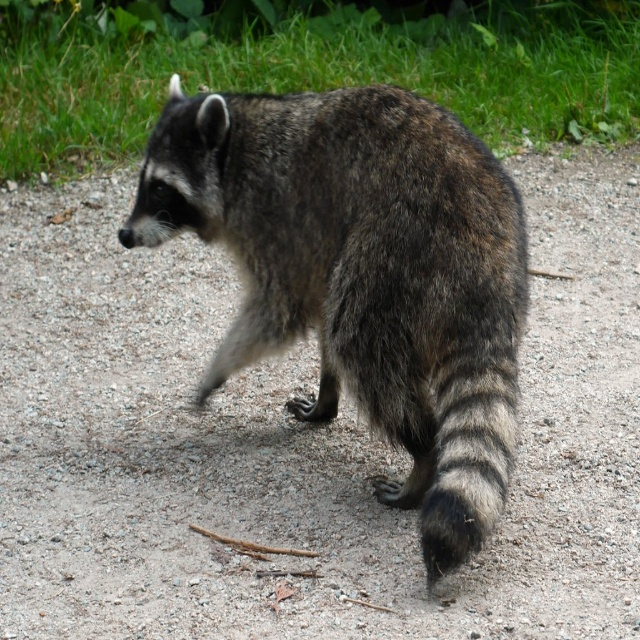Raccoon: (114, 72, 534, 598)
